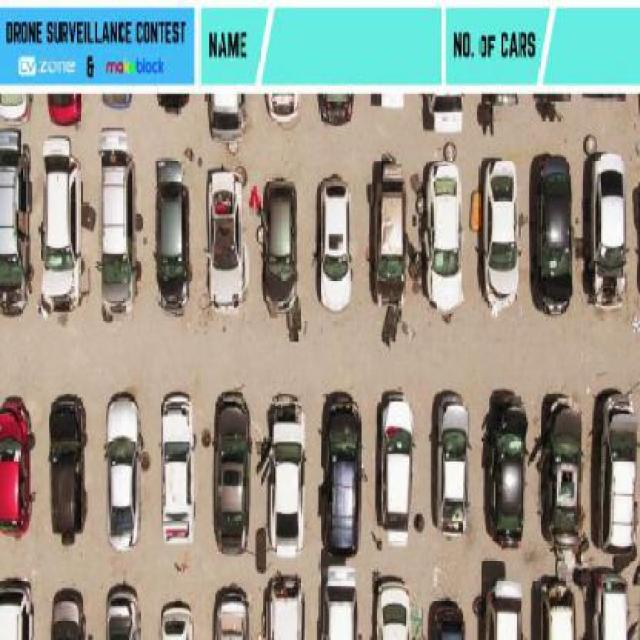car: (98, 139, 142, 311), (39, 140, 82, 312), (208, 386, 252, 553), (538, 397, 585, 552), (533, 150, 577, 314), (322, 396, 366, 556), (588, 150, 633, 306), (103, 388, 146, 551), (154, 152, 198, 311), (600, 390, 640, 558), (159, 392, 201, 548), (47, 391, 90, 538), (424, 157, 464, 315), (269, 393, 306, 560), (204, 164, 245, 313), (486, 399, 526, 551), (378, 392, 416, 550), (367, 153, 405, 308), (482, 156, 520, 308), (431, 392, 470, 540), (260, 175, 300, 312), (0, 134, 30, 310), (0, 391, 37, 531), (316, 176, 354, 311), (319, 558, 362, 639), (262, 570, 306, 638), (536, 570, 578, 638), (370, 571, 410, 638), (597, 571, 632, 640), (208, 581, 250, 638), (486, 574, 522, 638), (48, 586, 88, 640), (205, 88, 248, 138), (104, 584, 142, 640), (0, 578, 32, 639), (423, 597, 465, 640), (158, 600, 197, 640), (573, 565, 593, 639), (48, 92, 84, 125), (0, 89, 32, 121)
